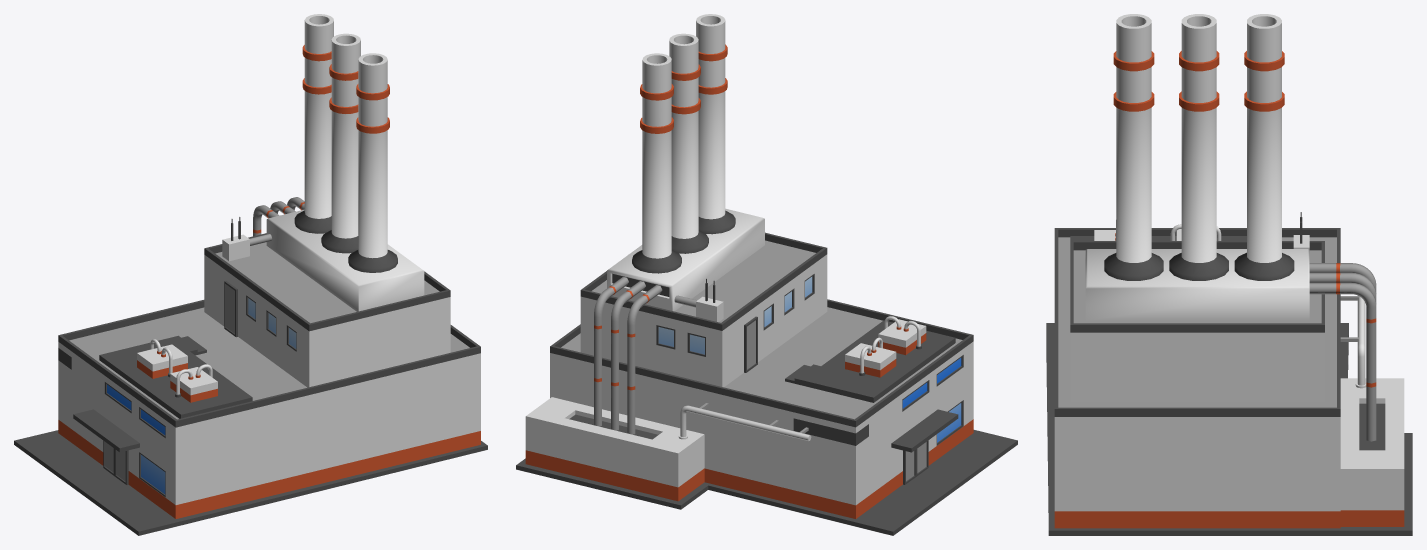
The model's file is Factory_4.fbx.
3 views of the same model, side by side, from view 1: azimuth 30°, elevation 25°; view 2: azimuth 150°, elevation 25°; view 3: azimuth 270°, elevation 25° (orthographic). The views are drawn at different scales.
Parts seen in each view (by area): view 1: Factory_4; view 2: Factory_4; view 3: Factory_4.
Boxes of the visible parts, x1,y1,x2,y2 form: Factory_4: [14, 14, 487, 535]; Factory_4: [516, 14, 1017, 535]; Factory_4: [1046, 14, 1412, 535].
Size of the model in its own units: 1721 by 1804 by 1282.
